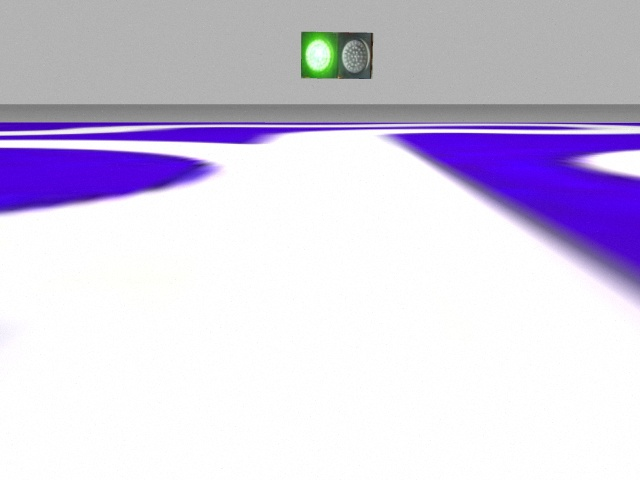green: (302, 31, 338, 77)
